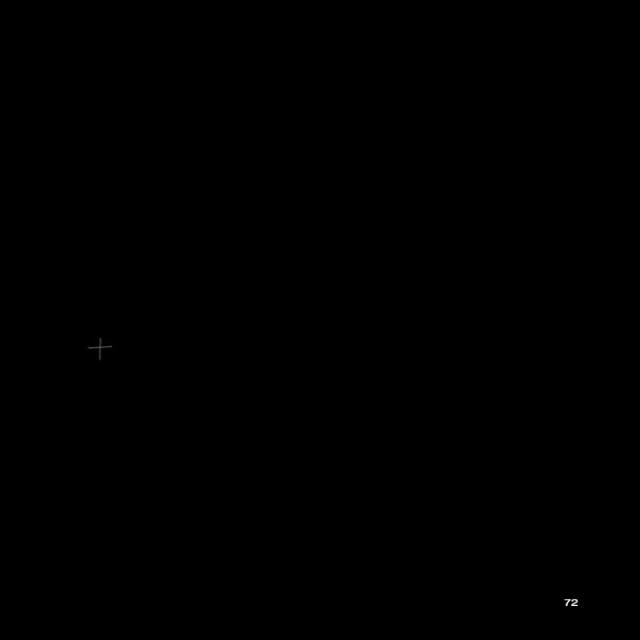10 -ten-: (81, 336, 118, 362)
